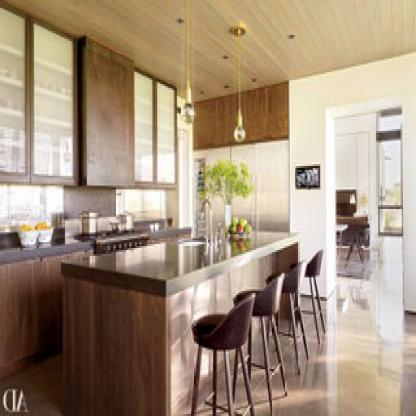chair: (185, 293, 258, 416), (235, 275, 285, 371), (281, 264, 306, 373), (305, 249, 327, 341)
door: (377, 129, 409, 235), (338, 132, 368, 234)
light: (176, 2, 200, 125), (228, 7, 247, 149)
table: (63, 229, 302, 416), (336, 216, 372, 262)
